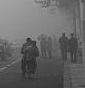person: (18, 34, 41, 81), (66, 31, 80, 63), (57, 29, 69, 62), (39, 35, 48, 58), (47, 36, 54, 59)
